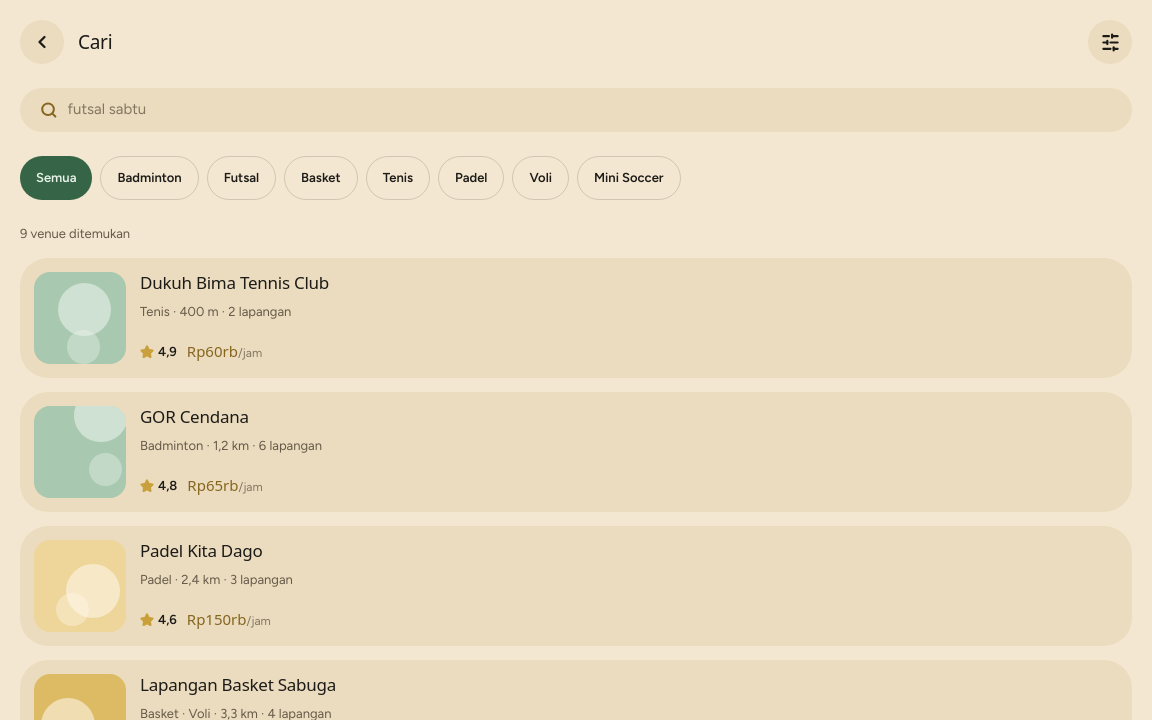
Test: SearchScreen — filter tersinkron dengan URL › menaruh query pencarian ke URL setelah jeda debounce
Type "padel" into the search field named "Cari venue" at (590, 110), box [68,98,1112,122]
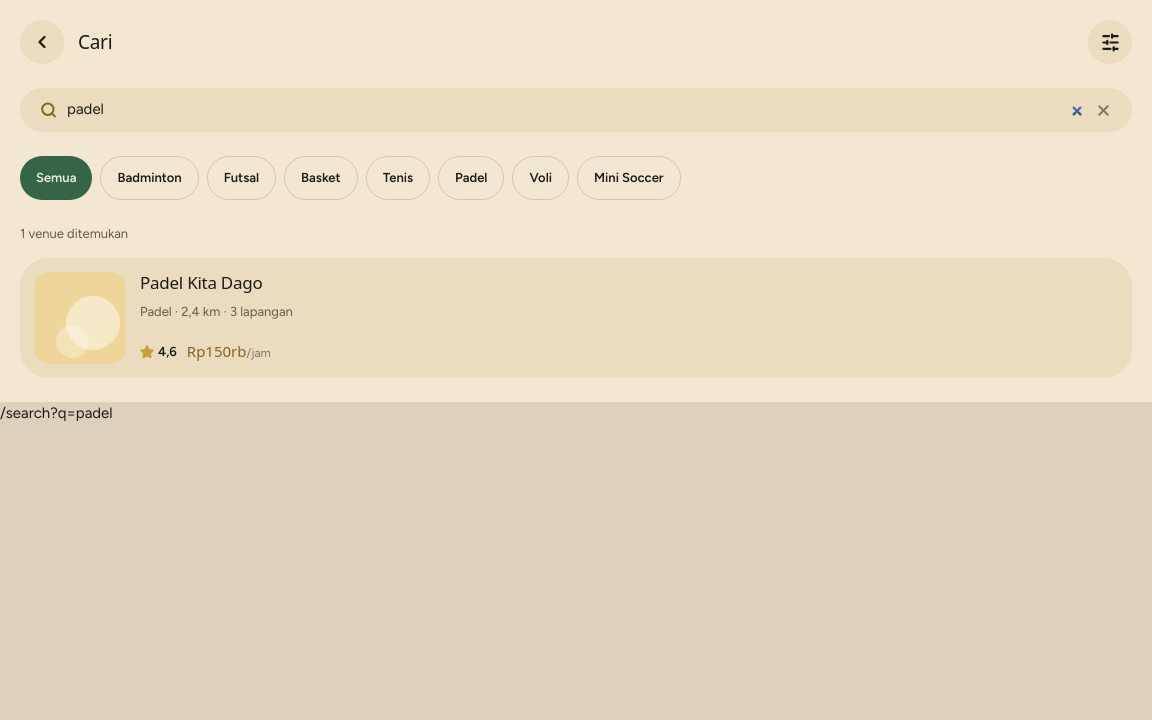
expect the text with test id "location" shows "q=padel": met, box [50,404,113,422]
